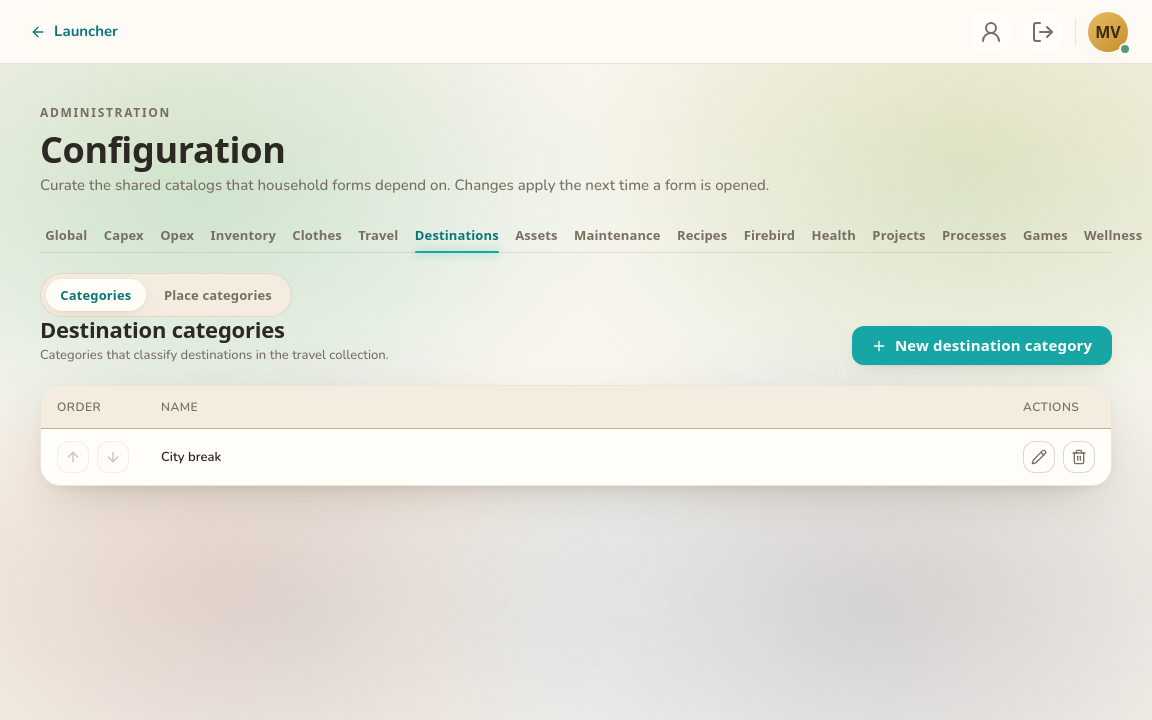
Scenario: Configuration navigation and states › shows the Destinations catalog tabs
Expected: the heading "Destination categories" is shown, [40, 314, 285, 344]
Expected: the text "City break" is shown, [145, 429, 1007, 485]
Click the tab "Place categories": (218, 295) [150, 279, 286, 311]
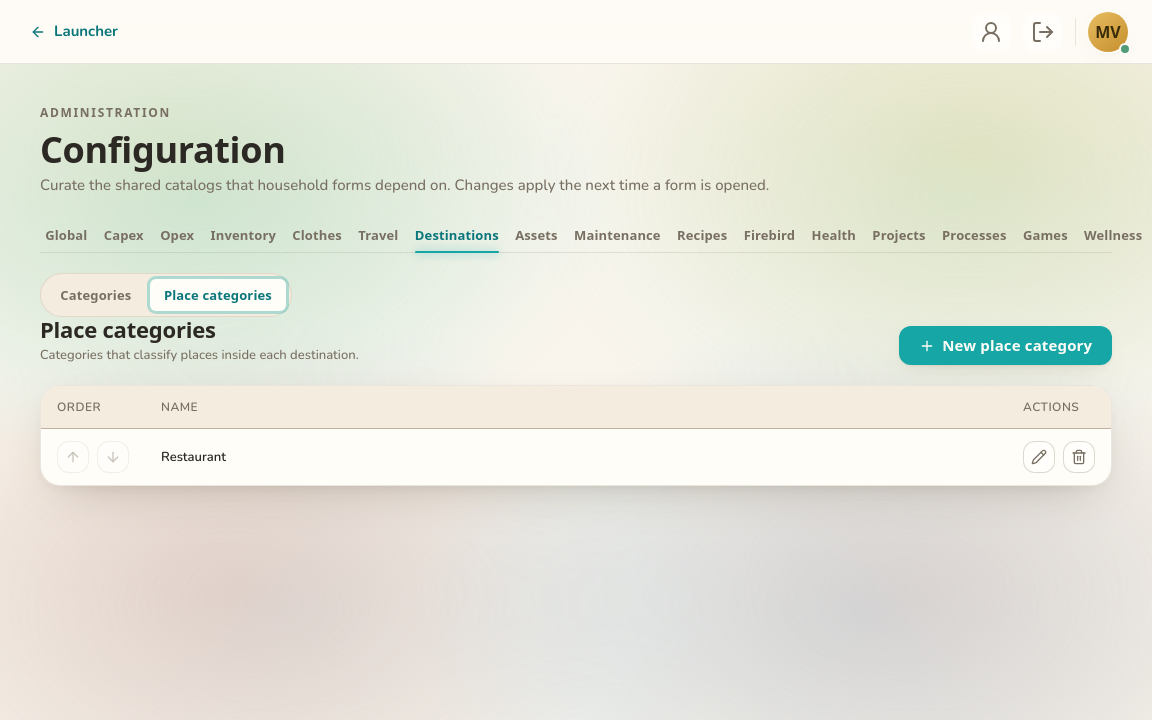
Now the heading "Place categories" is shown, box [40, 314, 216, 344]
Now the text "Restaurant" is shown, box [145, 429, 1007, 485]
